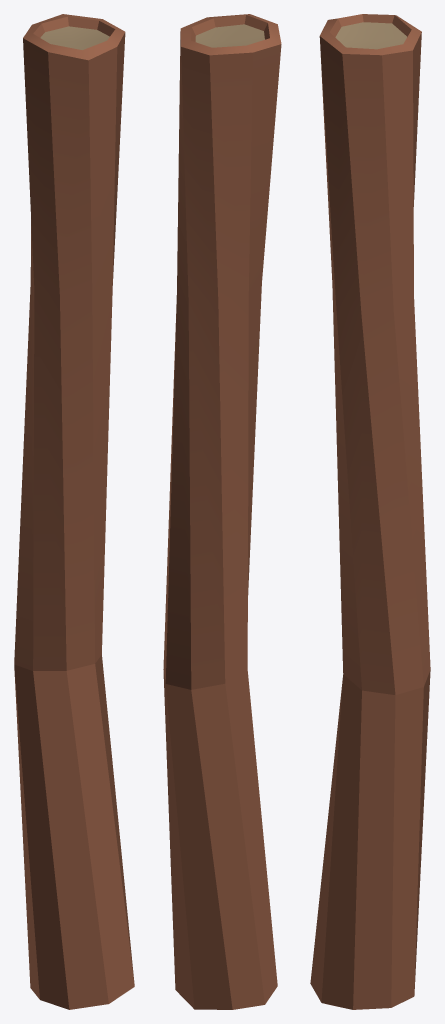
File: LightWoodPoleMediumWoodPole1.fbx
3 renders of one model, left to right at view 1: azimuth 90°, elevation 25°; view 2: azimuth 150°, elevation 25°; view 3: azimuth 270°, elevation 25°, orthographic.
Visible parts, largest first — view 1: LightWoodPoleMediumWoodPole1; view 2: LightWoodPoleMediumWoodPole1; view 3: LightWoodPoleMediumWoodPole1.
Part boxes in pixels (x1,y1,x2,y2): LightWoodPoleMediumWoodPole1: (14,14,134,1009); LightWoodPoleMediumWoodPole1: (163,14,281,1009); LightWoodPoleMediumWoodPole1: (310,14,430,1009).
Bounding box in the file's own units: 53.4 × 502 × 56.84.
